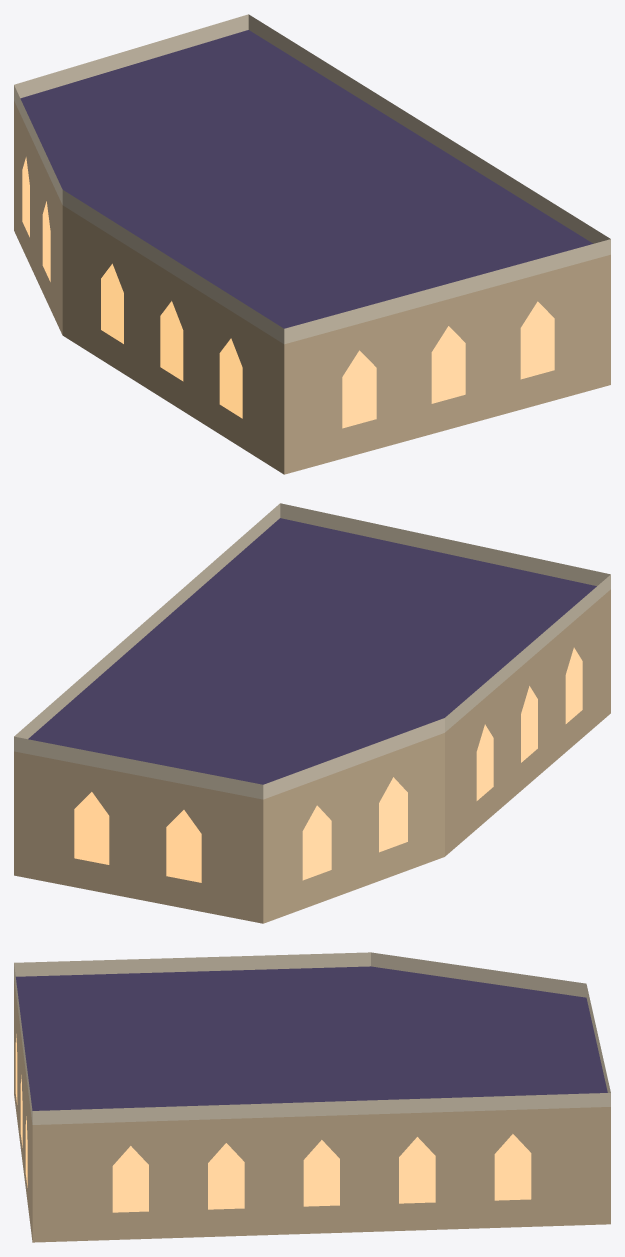
3 renders of one model, top to bottom at view 1: azimuth 30°, elevation 25°; view 2: azimuth 150°, elevation 25°; view 3: azimuth 270°, elevation 25°, orthographic. The views are drawn at different scales.
Parts seen in each view (by area): view 1: campus/b-033-0; view 2: campus/b-033-0; view 3: campus/b-033-0.
Part boxes in pixels (x1,y1,x2,y2): campus/b-033-0: [14, 14, 610, 474]; campus/b-033-0: [14, 503, 610, 923]; campus/b-033-0: [14, 952, 610, 1242].
Bounding box in the file's own units: 13.32 × 5.15 × 21.18.
